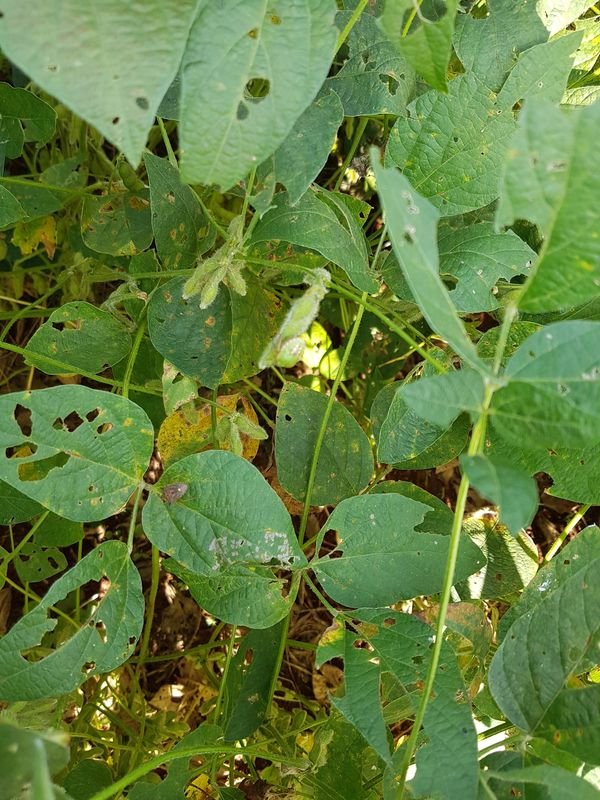Euschistus_heros_adulto: (155, 480, 190, 510)
Nezara_viridula_ninfa: (269, 330, 310, 371)
